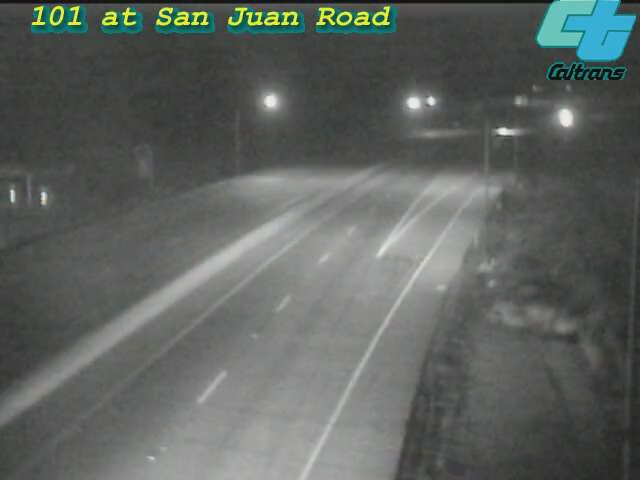vehicle: (478, 107, 528, 157), (534, 93, 584, 143)
